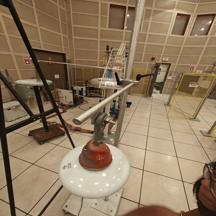insulator: (54, 135, 139, 202)
